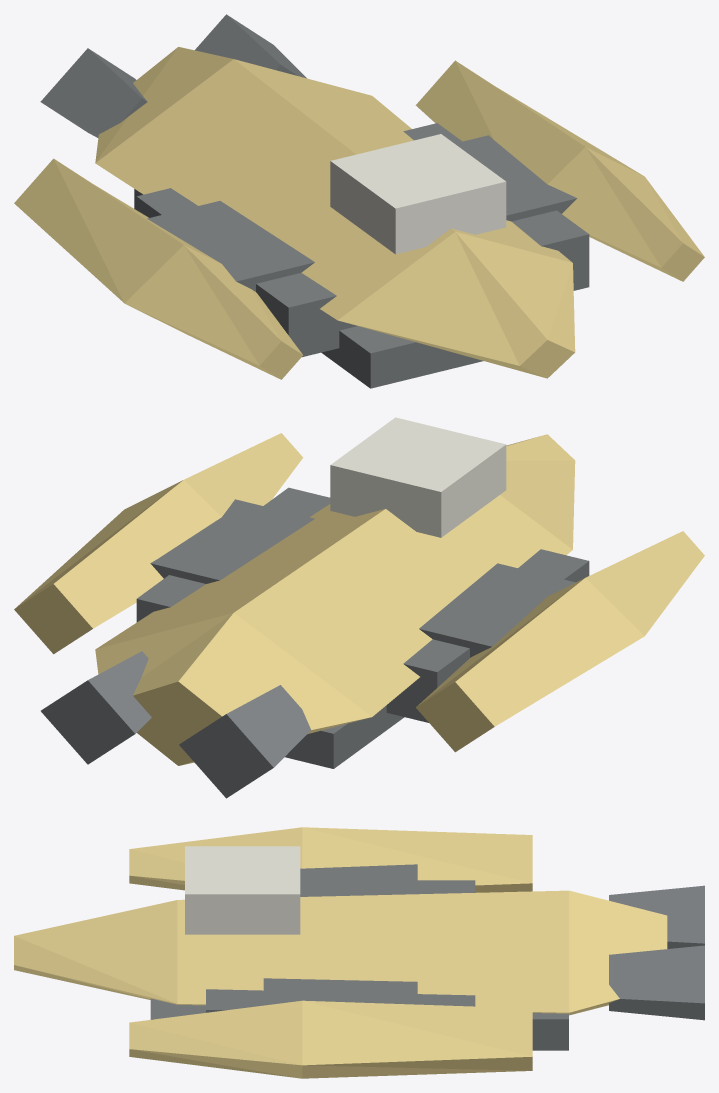
3 views of the same model, one above another, from view 1: azimuth 30°, elevation 25°; view 2: azimuth 150°, elevation 25°; view 3: azimuth 270°, elevation 25° (orthographic). The views are drawn at different scales.
Bounding box in the file's own units: 5.31 × 1.6 × 6.9.
